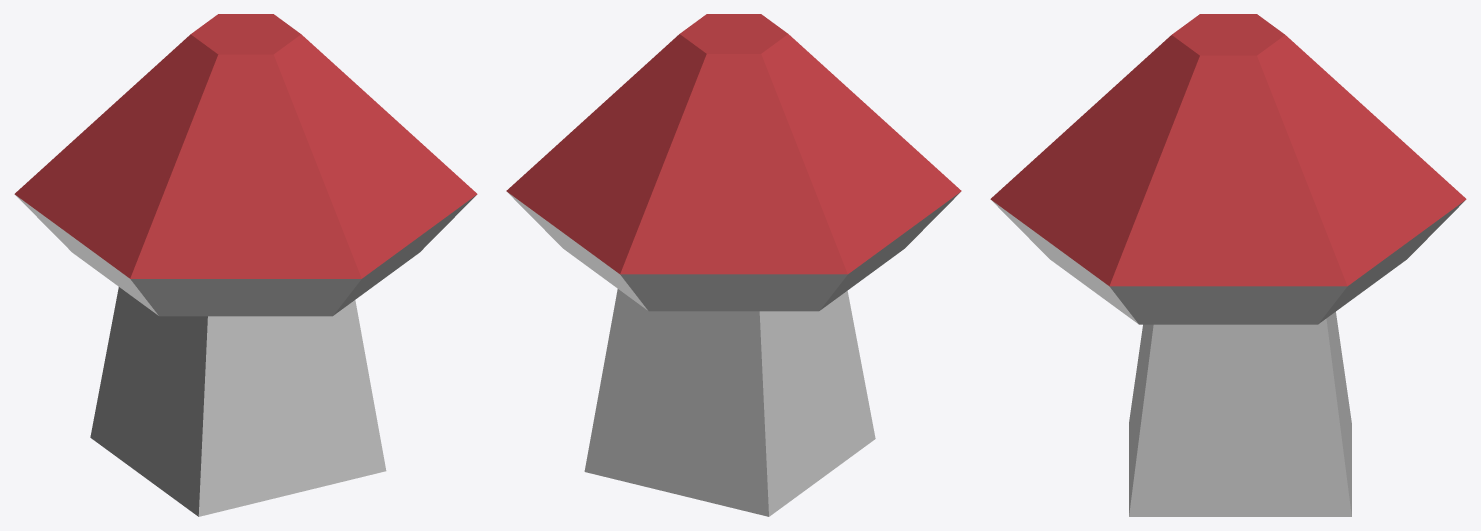
Rendered from mushroom_red.glb.
The picture shows the model from 3 angles, left to right: view 1: azimuth 30°, elevation 25°; view 2: azimuth 150°, elevation 25°; view 3: azimuth 270°, elevation 25°; orthographic projection. The views are drawn at different scales.
Visible parts, largest first — view 1: mushroom_red; view 2: mushroom_red; view 3: mushroom_red.
Boxes of the visible parts, left/top/right/bottom form: mushroom_red: left=14, top=14, right=477, bottom=516; mushroom_red: left=506, top=14, right=961, bottom=516; mushroom_red: left=990, top=14, right=1466, bottom=516.
Size of the model in its own units: 0.174 by 0.2028 by 0.2009.
